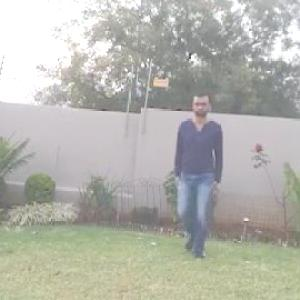follow: (169, 91, 224, 253)
